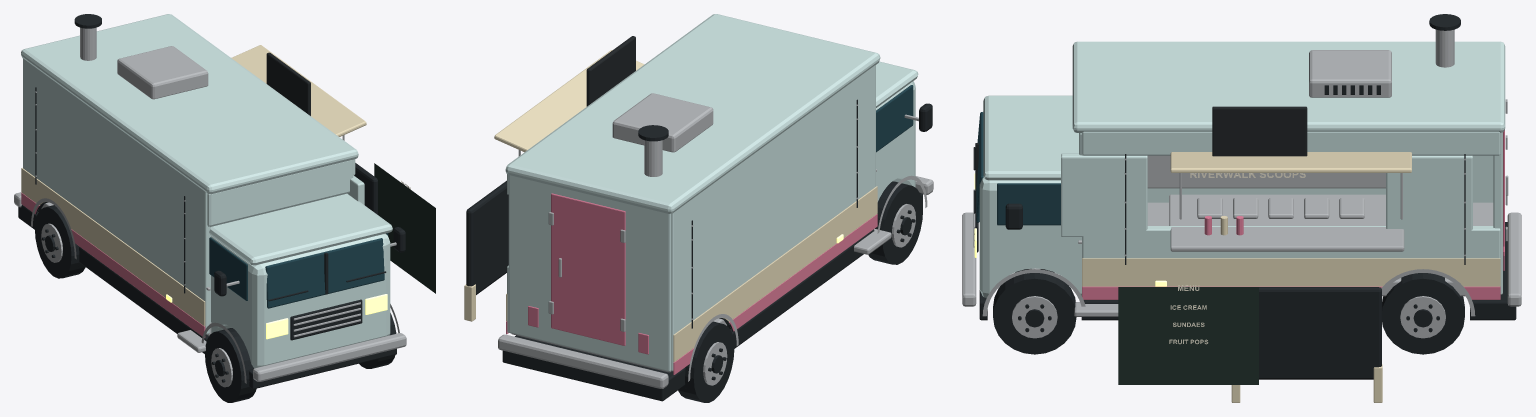
Rendered from ice-cream-truck.glb.
The picture shows the model from 3 angles, left to right: view 1: azimuth 30°, elevation 25°; view 2: azimuth 150°, elevation 25°; view 3: azimuth 270°, elevation 25°; orthographic projection. The views are drawn at different scales.
Parts seen in each view (by area): view 1: RIVERWALK SCOOPS Sauce Pitt cobalt enamel, Closed left wall, Rubber and charcoal, Brushed stainless, Blue cab glass, Yellow belt, Menu black, RIVERWALK SCOOPS Warm yellow stripe, Burgundy skirt, LCD bezel, Warm service lights; view 2: RIVERWALK SCOOPS Sauce Pitt cobalt enamel, Closed left wall, Rubber and charcoal, Brushed stainless, RIVERWALK SCOOPS Burgundy enamel, Yellow belt, RIVERWALK SCOOPS Warm yellow stripe, Burgundy skirt, LCD bezel, Blue cab glass; view 3: RIVERWALK SCOOPS Sauce Pitt cobalt enamel, Brushed stainless, Rubber and charcoal, Menu black, Yellow belt.001, Service sill, RIVERWALK SCOOPS Warm yellow stripe, LCD bezel, Blue cab glass, Closed left wall, Burgundy skirt.001, Vendor lettering / cream (+1 smaller).
Boxes of the visible parts, x1,y1,x2,y2 form: RIVERWALK SCOOPS Sauce Pitt cobalt enamel: (21, 14, 392, 368); Closed left wall: (23, 58, 210, 334); Rubber and charcoal: (18, 14, 405, 402); Brushed stainless: (14, 27, 406, 387); Blue cab glass: (209, 233, 388, 308); Yellow belt: (21, 168, 205, 326); Menu black: (374, 163, 435, 293); RIVERWALK SCOOPS Warm yellow stripe: (231, 45, 366, 136); Burgundy skirt: (21, 192, 205, 337); LCD bezel: (266, 52, 310, 115); Warm service lights: (166, 294, 387, 339); RIVERWALK SCOOPS Sauce Pitt cobalt enamel: (505, 14, 918, 371); Closed left wall: (671, 65, 875, 371); Rubber and charcoal: (466, 99, 932, 402); Brushed stainless: (498, 93, 933, 388); RIVERWALK SCOOPS Burgundy enamel: (528, 193, 648, 354); Yellow belt: (673, 186, 877, 362); RIVERWALK SCOOPS Warm yellow stripe: (464, 50, 644, 321); Burgundy skirt: (673, 214, 877, 374); LCD bezel: (586, 36, 635, 106); Blue cab glass: (876, 85, 913, 152); RIVERWALK SCOOPS Sauce Pitt cobalt enamel: (979, 41, 1505, 297); Brushed stainless: (962, 29, 1521, 338); Rubber and charcoal: (973, 14, 1516, 379); Menu black: (1118, 287, 1258, 384); Yellow belt.001: (1082, 258, 1500, 286); Service sill: (1082, 226, 1500, 258); RIVERWALK SCOOPS Warm yellow stripe: (1170, 152, 1411, 402); LCD bezel: (1212, 106, 1307, 156); Blue cab glass: (976, 112, 1060, 225); Closed left wall: (1147, 155, 1493, 202); Burgundy skirt.001: (1082, 286, 1500, 299); Vendor lettering / cream: (1169, 173, 1305, 344).
Bounding box in the file's own units: 4.43 × 3.81 × 7.09.
